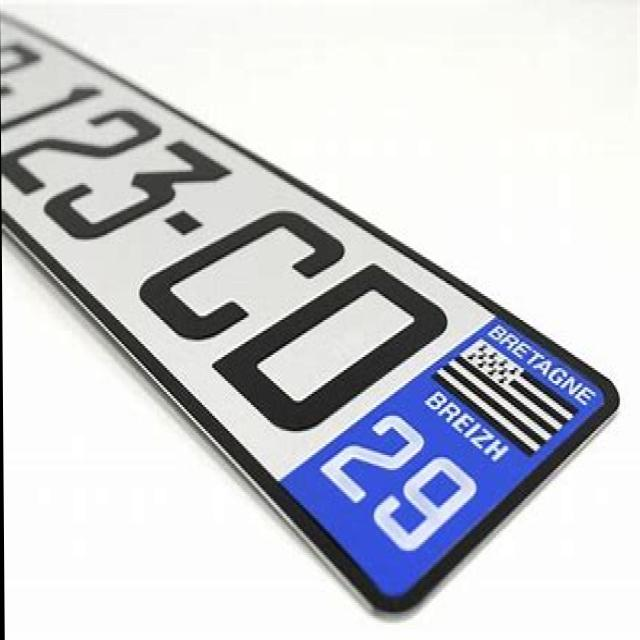Plaque: (4, 12, 637, 626)
